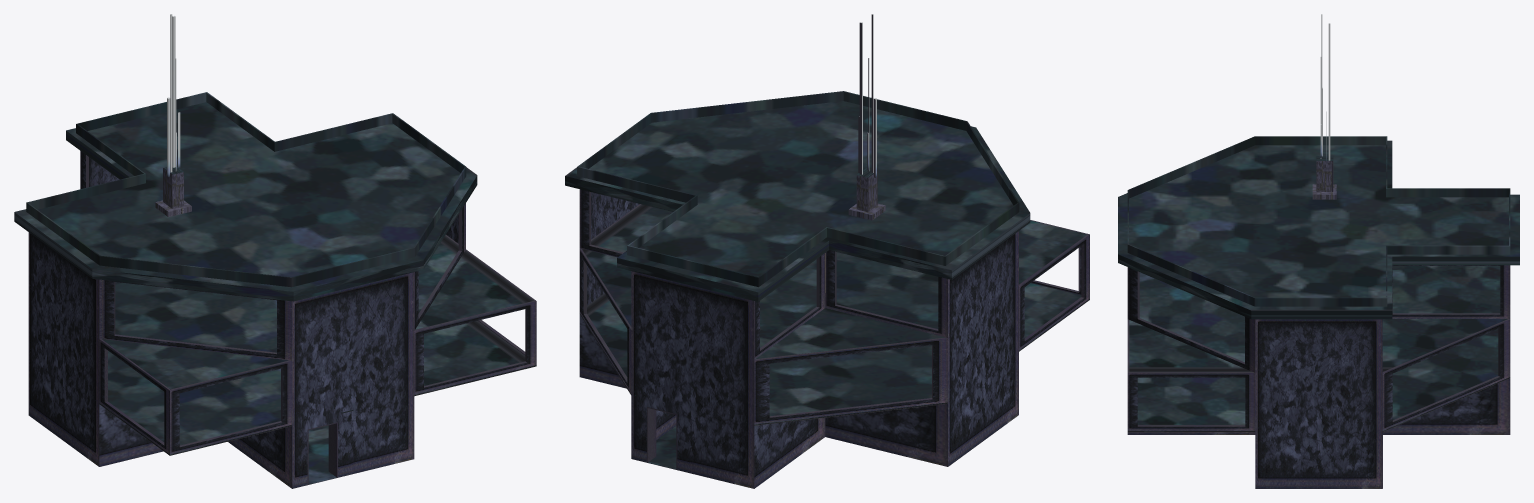
The model's file is oct_3s_body.DAE.
3 renders of one model, left to right at view 1: azimuth 30°, elevation 25°; view 2: azimuth 150°, elevation 25°; view 3: azimuth 270°, elevation 25°, orthographic. The views are drawn at different scales.
Visible parts, largest first — view 1: building_ledge03-Pivot; view 2: building_ledge03-Pivot; view 3: building_ledge03-Pivot.
Boxes of the visible parts, x1=… form: building_ledge03-Pivot: x1=14, y1=14, x2=536, y2=488; building_ledge03-Pivot: x1=565, y1=14, x2=1089, y2=488; building_ledge03-Pivot: x1=1118, y1=14, x2=1519, y2=488.
Bounding box in the file's own units: 43.5 × 43.1 × 43.51.
